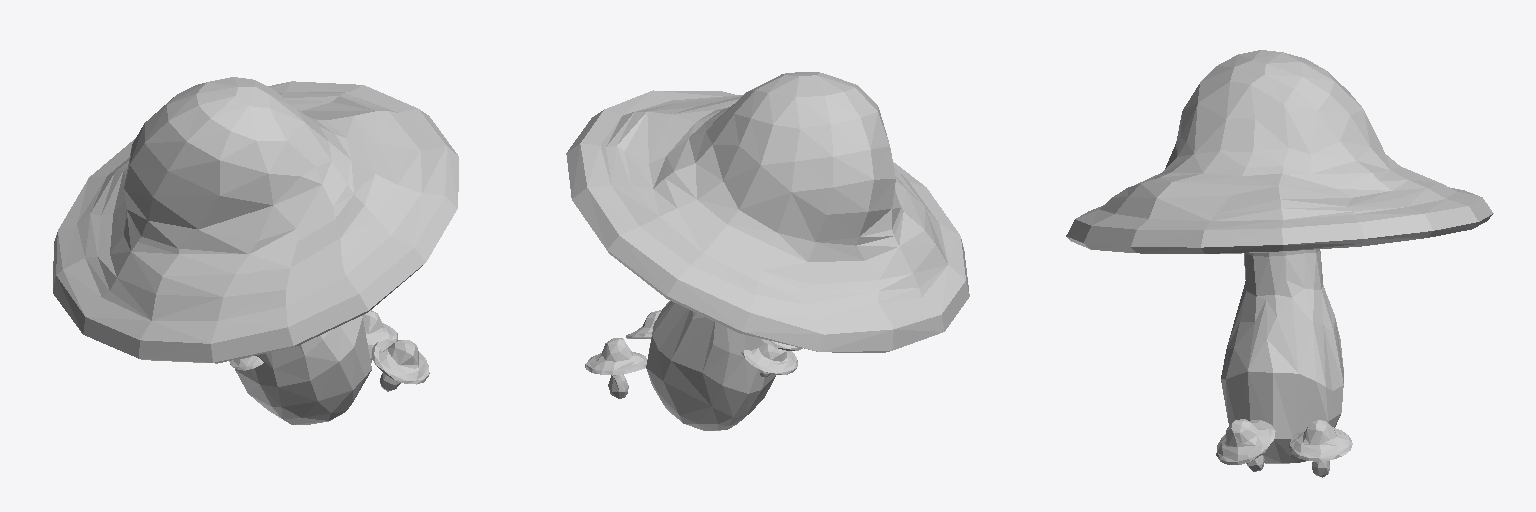
The model's file is champi2.obj.
3 renders of one model, left to right at view 1: azimuth 30°, elevation 25°; view 2: azimuth 150°, elevation 25°; view 3: azimuth 270°, elevation 25°, orthographic.
Visible parts, largest first — view 1: champi2; view 2: champi2; view 3: champi2.
Part boxes in pixels (x1,y1,x2,y2): champi2: (53, 77, 458, 424); champi2: (566, 72, 969, 430); champi2: (1066, 50, 1493, 477).
Bounding box in the file's own units: 0.9448 × 0.9316 × 1.